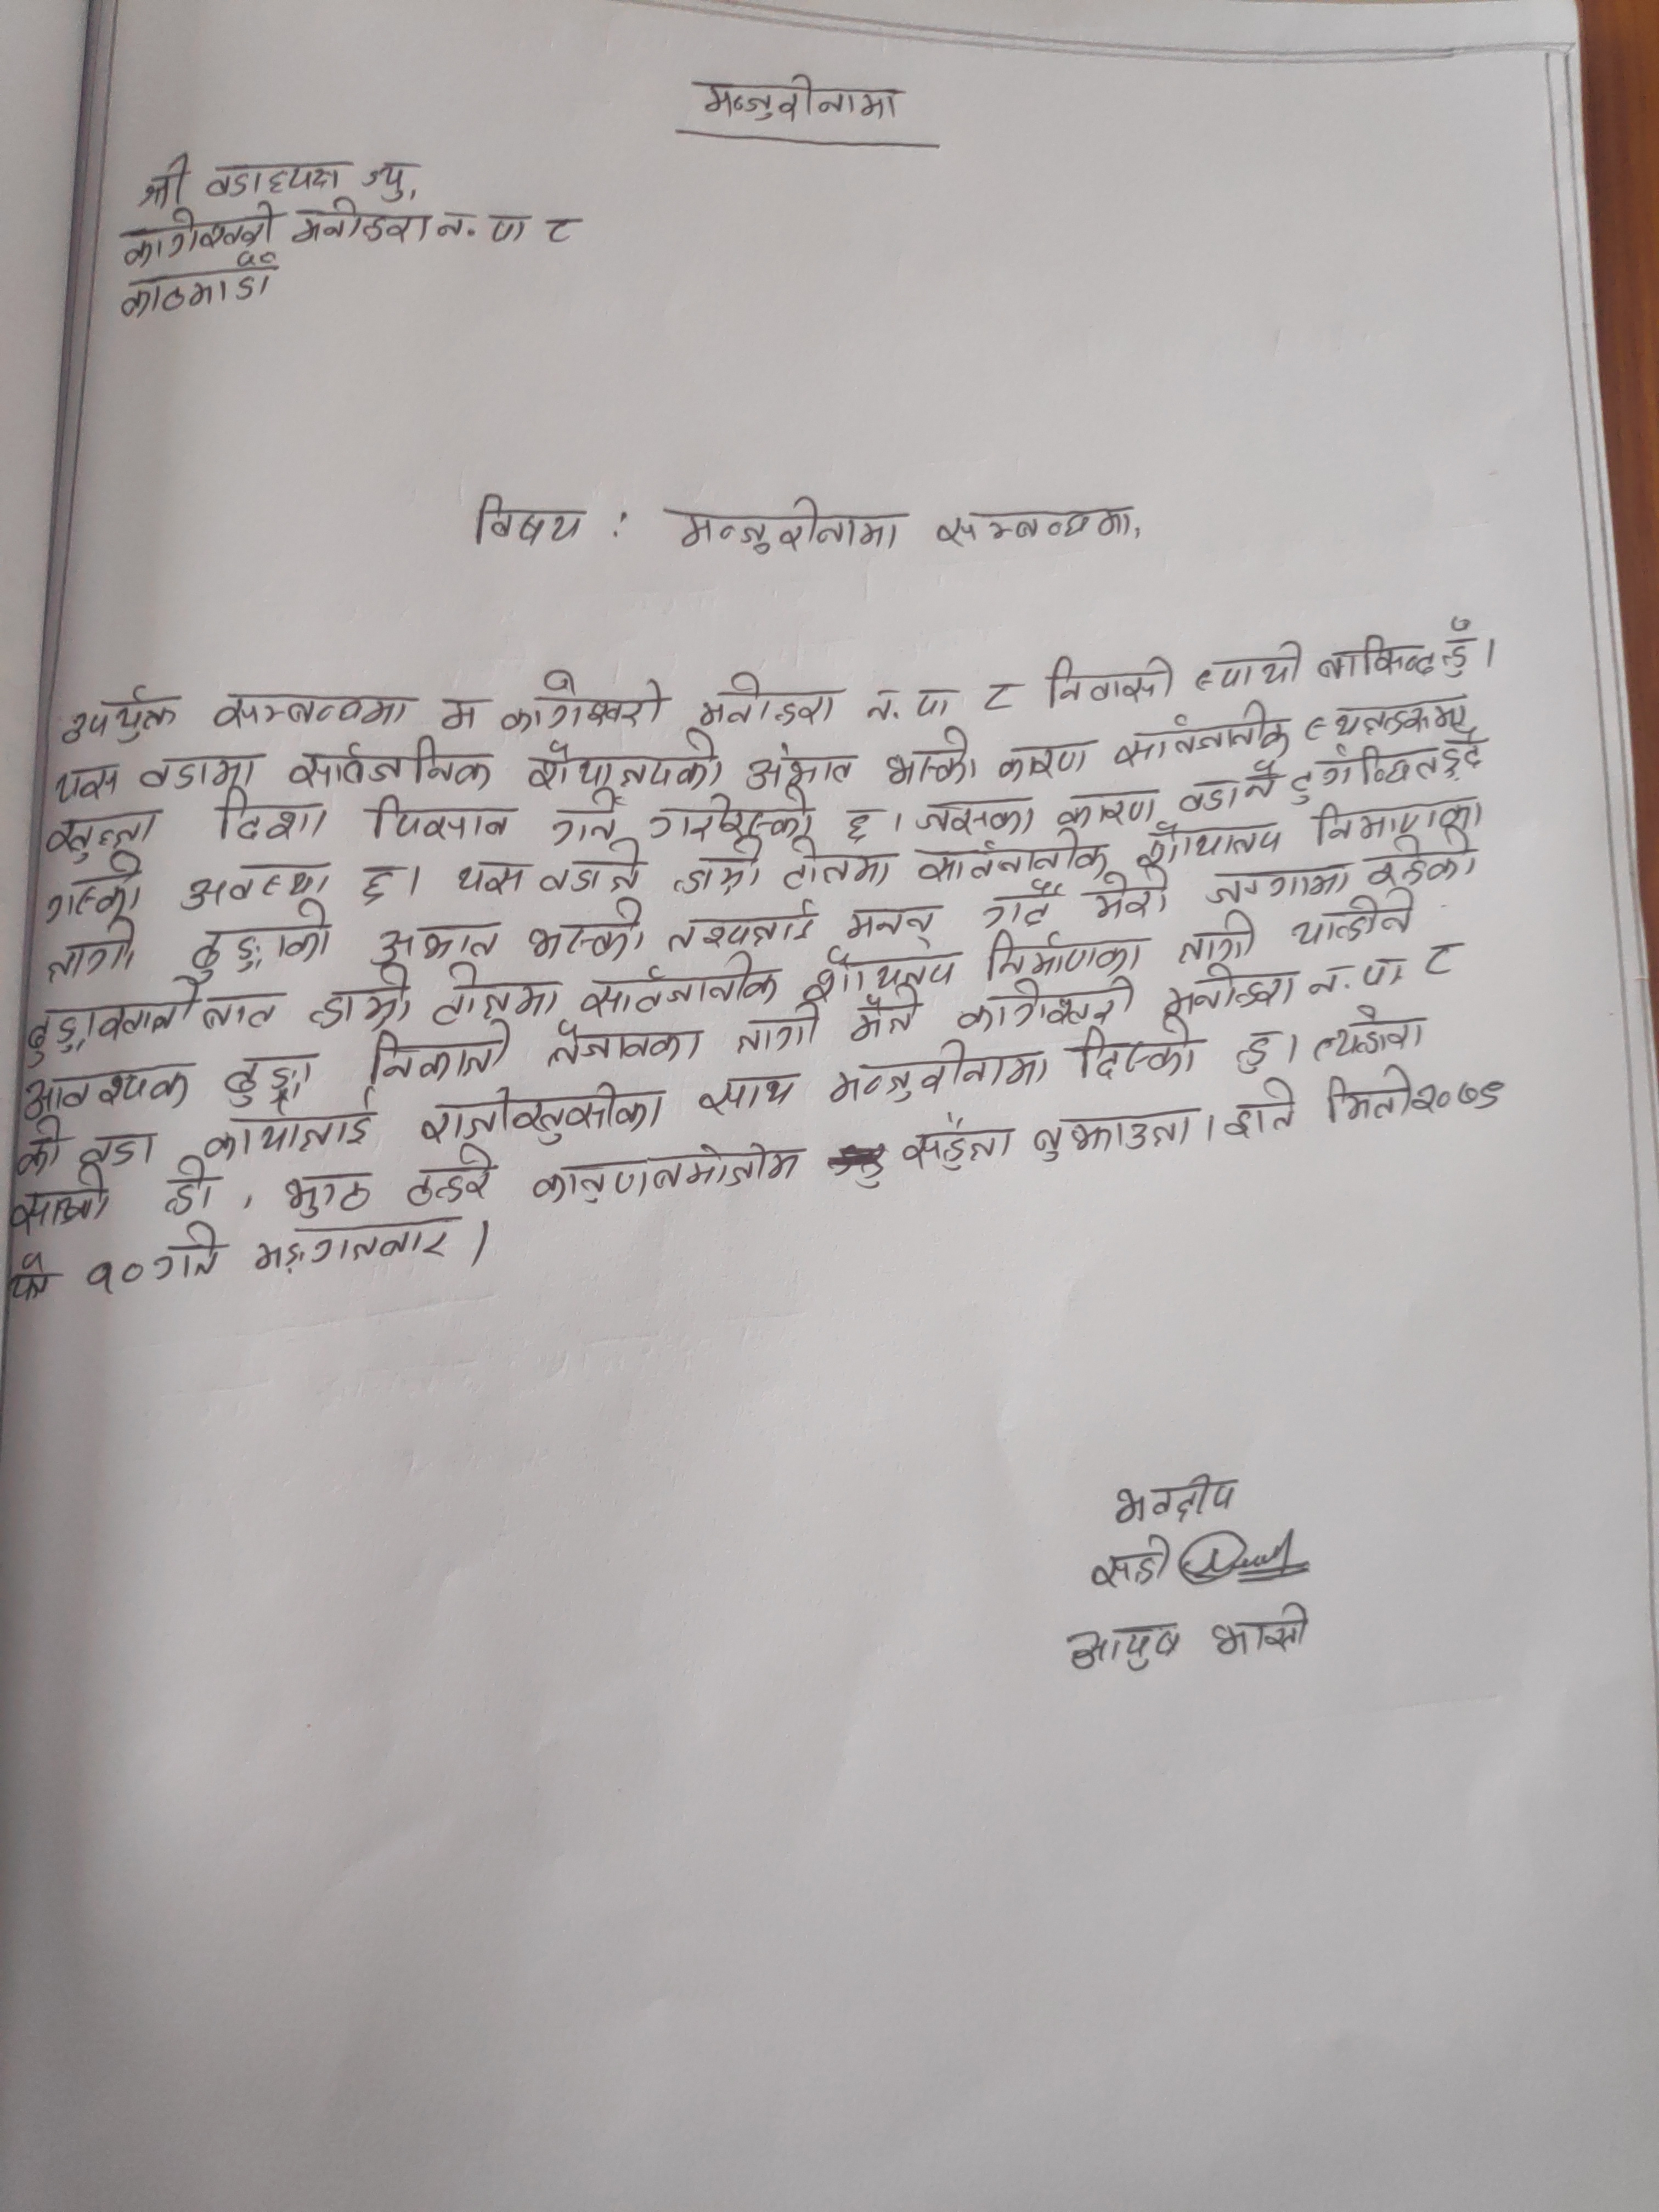text: (525, 1141, 807, 1200), (652, 495, 911, 557), (415, 1080, 666, 1144), (247, 1217, 467, 1287), (676, 70, 913, 132), (828, 1042, 1051, 1104), (183, 899, 335, 984), (281, 735, 497, 794), (112, 254, 284, 327), (577, 953, 782, 1014), (528, 732, 727, 794), (28, 989, 192, 1062), (497, 669, 674, 733), (1110, 700, 1290, 763), (1290, 742, 1492, 796), (1302, 792, 1493, 848), (120, 204, 284, 268), (908, 833, 1112, 883), (21, 1062, 190, 1122), (645, 784, 812, 843), (953, 979, 1138, 1031), (1070, 1012, 1201, 1085), (202, 1101, 378, 1155), (211, 685, 415, 730), (359, 1024, 514, 1083), (1304, 688, 1476, 740), (701, 667, 843, 730), (540, 1017, 706, 1071), (664, 897, 819, 954), (1028, 1106, 1197, 1158), (173, 853, 331, 907), (932, 507, 1143, 547), (981, 925, 1147, 975), (1060, 1611, 1182, 1679), (10, 1165, 119, 1240), (526, 897, 652, 961), (807, 948, 960, 1000), (362, 792, 519, 843), (308, 958, 415, 1031), (429, 961, 559, 1021), (1100, 1470, 1243, 1524), (59, 681, 181, 744), (1133, 819, 1290, 867), (1293, 890, 1417, 951), (1164, 963, 1297, 1017), (291, 195, 432, 246), (469, 493, 592, 550), (1042, 653, 1178, 705), (44, 859, 150, 925), (901, 1113, 1019, 1172), (777, 834, 892, 895), (1314, 1003, 1427, 1064), (880, 730, 986, 792), (1211, 1597, 1314, 1662), (746, 737, 861, 792), (1199, 862, 1352, 904), (366, 916, 500, 963), (45, 808, 160, 862), (213, 786, 331, 838), (673, 836, 770, 897), (403, 1144, 500, 1205), (1192, 643, 1305, 695), (1089, 1531, 1176, 1599), (1319, 1064, 1413, 1127), (1317, 634, 1434, 685), (202, 158, 349, 199), (47, 921, 143, 982), (1364, 836, 1480, 887), (132, 752, 268, 794), (221, 1050, 317, 1109), (1223, 1073, 1302, 1144), (697, 1071, 805, 1120), (917, 794, 1037, 838), (538, 848, 641, 899), (153, 1219, 228, 1287), (277, 1170, 380, 1219), (840, 904, 943, 951), (1086, 869, 1171, 925), (734, 1003, 824, 1055), (972, 878, 1065, 928), (993, 740, 1098, 784), (1175, 911, 1256, 963), (1307, 953, 1405, 996), (551, 787, 619, 848), (1412, 1078, 1506, 1122), (437, 207, 533, 249), (1054, 792, 1159, 831), (75, 1125, 166, 1169), (157, 1158, 221, 1219), (850, 986, 920, 1042), (3, 1251, 64, 1310), (861, 685, 953, 723), (80, 1251, 146, 1303), (458, 853, 528, 902), (49, 759, 122, 805), (200, 988, 279, 1029), (1439, 613, 1485, 683), (362, 157, 423, 207), (16, 1116, 66, 1177), (139, 157, 193, 209), (1229, 1022, 1281, 1076), (1178, 773, 1239, 819), (1422, 935, 1469, 982), (359, 859, 404, 907), (432, 695, 486, 733), (978, 676, 1026, 714), (1244, 759, 1283, 806), (838, 805, 882, 845), (538, 214, 587, 246)
